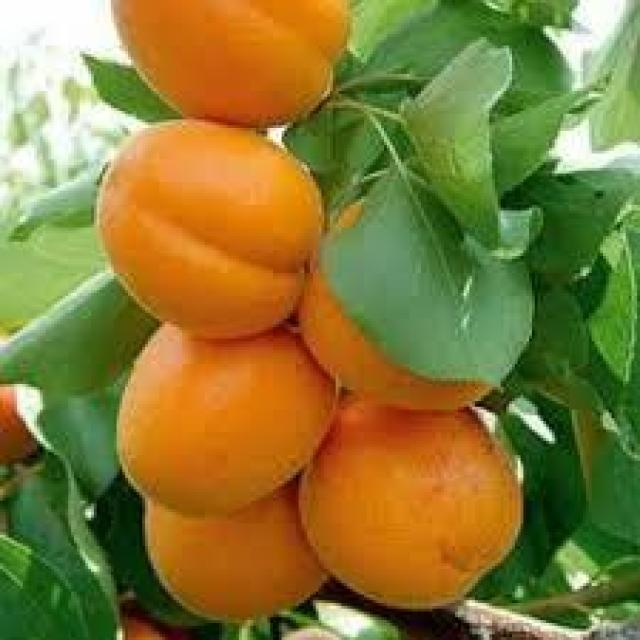kayisi: (90, 111, 333, 346), (294, 382, 532, 617), (103, 308, 343, 525), (107, 0, 362, 137)
